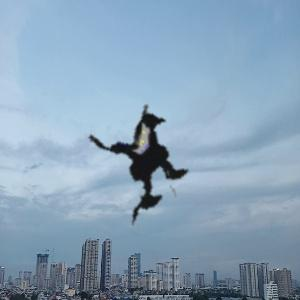drone: (49, 56, 264, 271)
